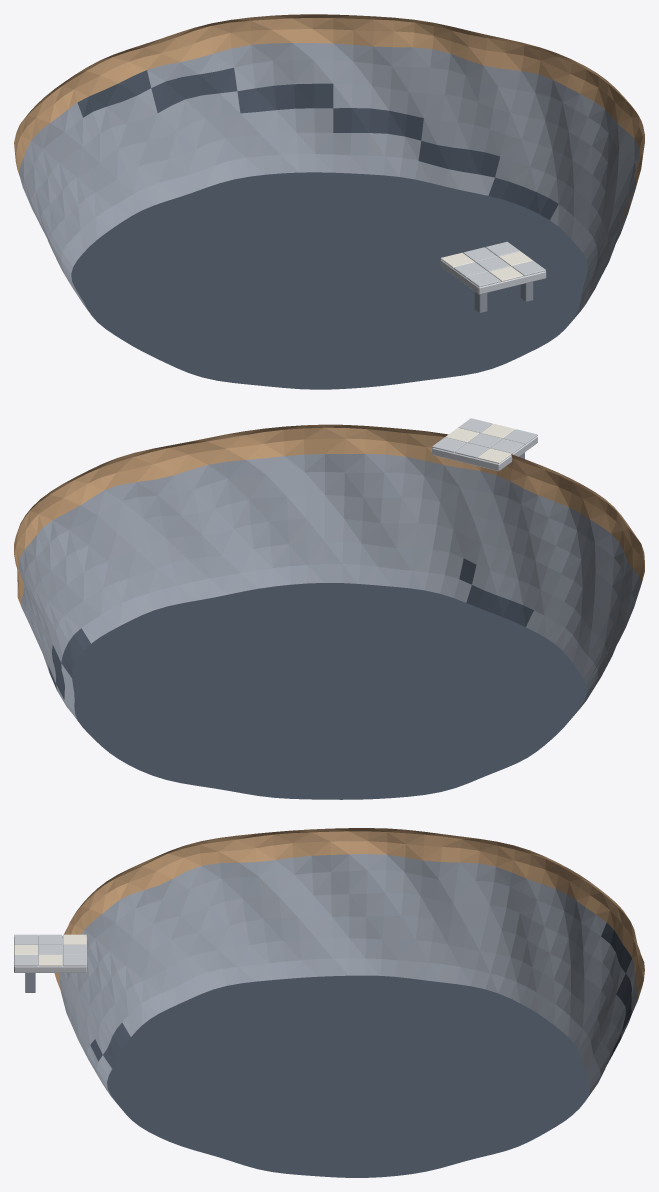
The model's file is deco_island_12m.glb.
3 renders of one model, top to bottom at view 1: azimuth 30°, elevation 25°; view 2: azimuth 150°, elevation 25°; view 3: azimuth 270°, elevation 25°, orthographic. The views are drawn at different scales.
Visible parts, largest first — view 1: island_cliff, island_dock; view 2: island_cliff, island_dock; view 3: island_cliff, island_dock.
Boxes of the visible parts, x1=… form: island_cliff: x1=14, y1=14, x2=644, y2=389; island_dock: x1=440, y1=241, x2=546, y2=313; island_cliff: x1=14, y1=424, x2=644, y2=799; island_dock: x1=432, y1=418, x2=537, y2=471; island_cliff: x1=54, y1=828, x2=644, y2=1177; island_dock: x1=14, y1=934, x2=86, y2=992.
Bounding box in the file's own units: 24.22 × 5.71 × 25.97.
1 material, 1 textured.
